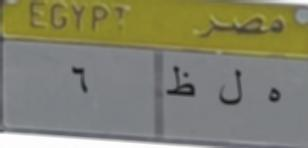6: (66, 61, 94, 98)
Thaa: (164, 64, 199, 104)
haa: (259, 81, 285, 113)
laam: (216, 63, 245, 114)
